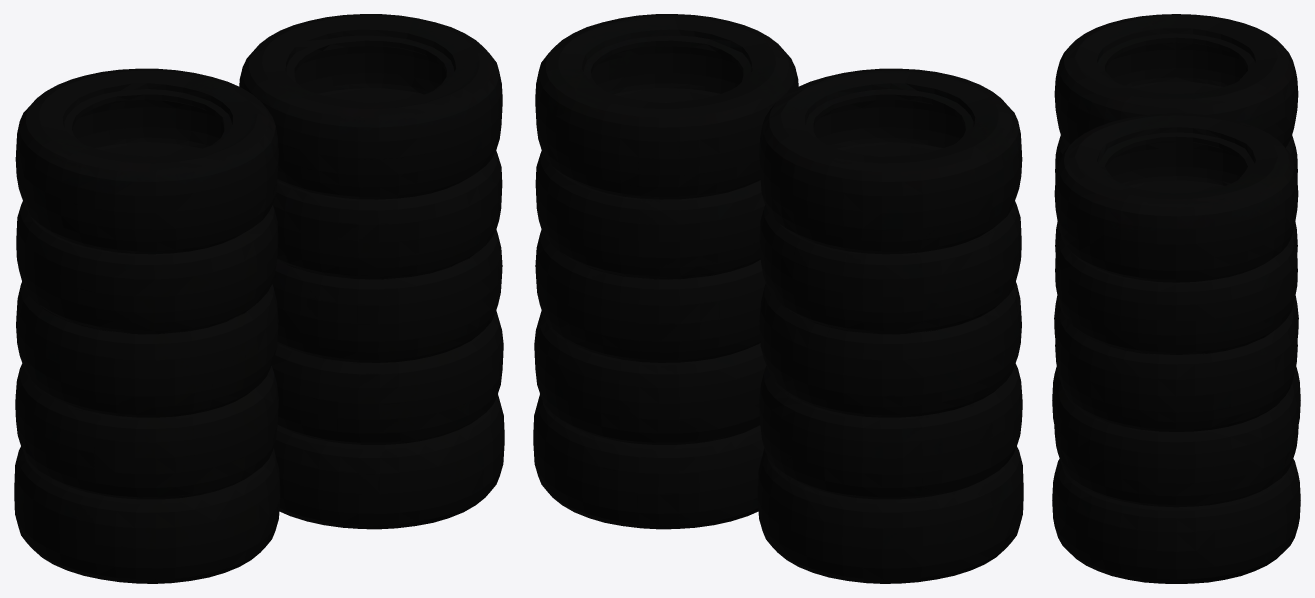
3 renders of one model, left to right at view 1: azimuth 30°, elevation 25°; view 2: azimuth 150°, elevation 25°; view 3: azimuth 270°, elevation 25°, orthographic. The views are drawn at different scales.
Visible parts, largest first — view 1: texture_pbr_v128; view 2: texture_pbr_v128; view 3: texture_pbr_v128.
Boxes of the visible parts, x1,y1,x2,y2 form: texture_pbr_v128: (14, 14, 504, 583); texture_pbr_v128: (533, 14, 1023, 583); texture_pbr_v128: (1052, 14, 1300, 583).
Size of the model in its own units: 0.9275 by 0.8169 by 0.4814.
1 material, 1 textured.
